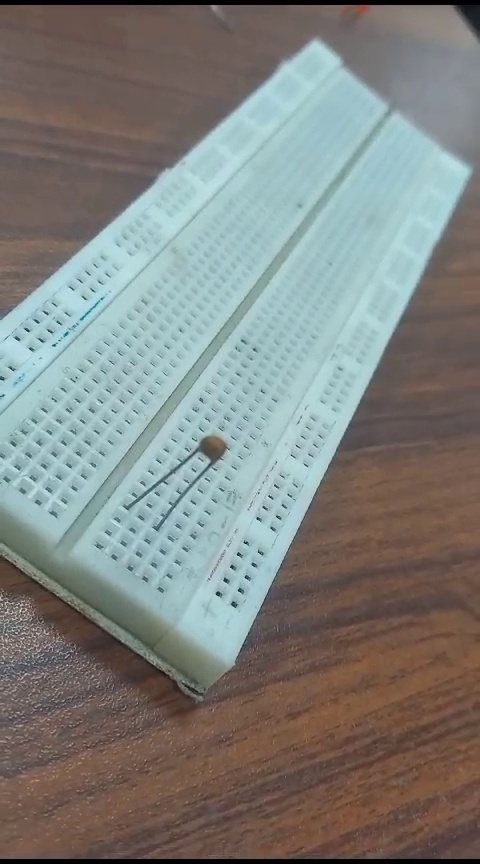ceramic capacitor: (128, 424, 243, 523)
